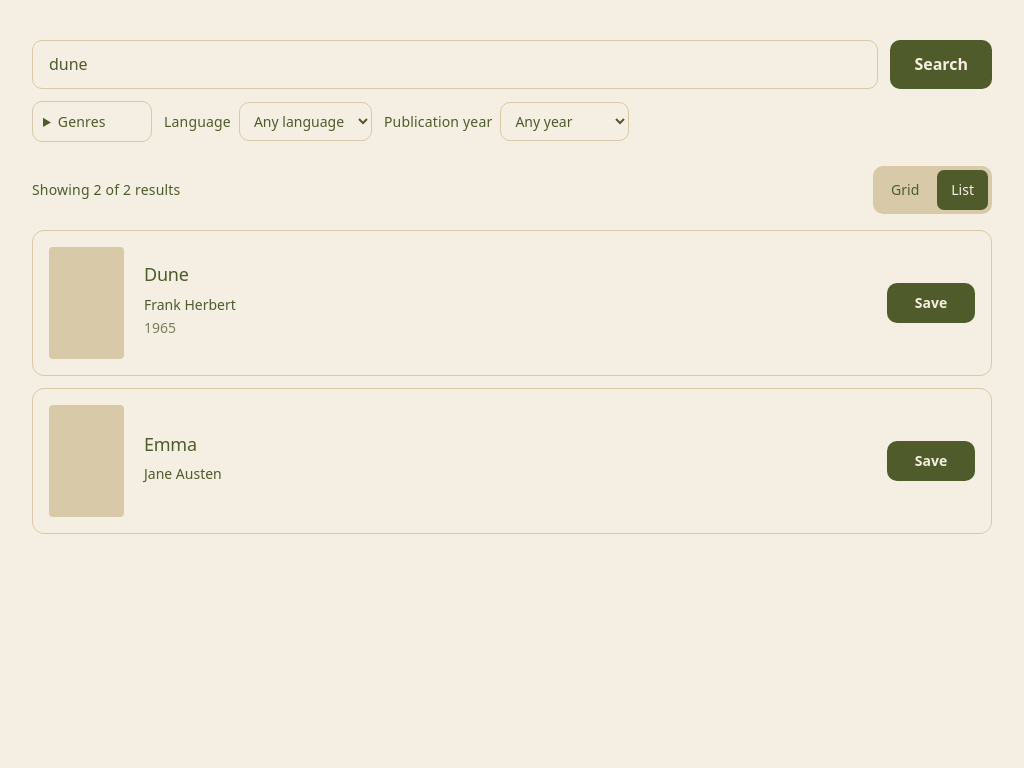
Test case: SearchPage › TST-01-T-1 search page switches between list and grid
Expected: the text "Showing 2 of 2 results" is shown, [32, 178, 180, 202]
Click the button "Grid" at (905, 190), box [877, 170, 933, 210]
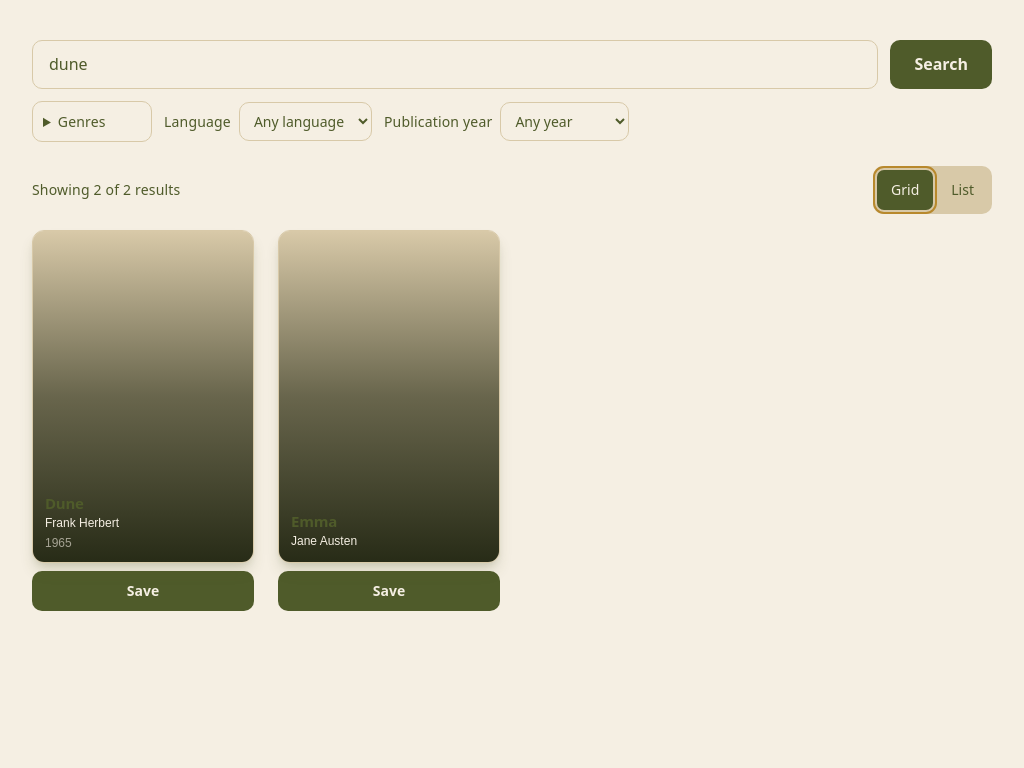
Expected: the number of buttons named "View details" is 2, [32, 230, 254, 563]; [278, 230, 500, 563]
